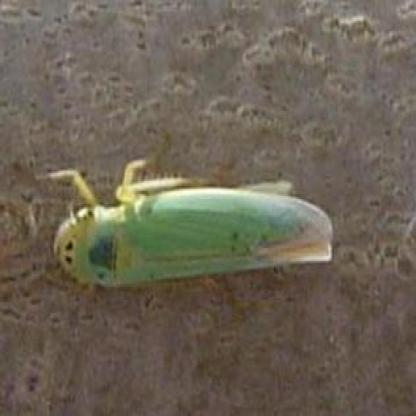Green-Leafhopper: (33, 151, 343, 296)
